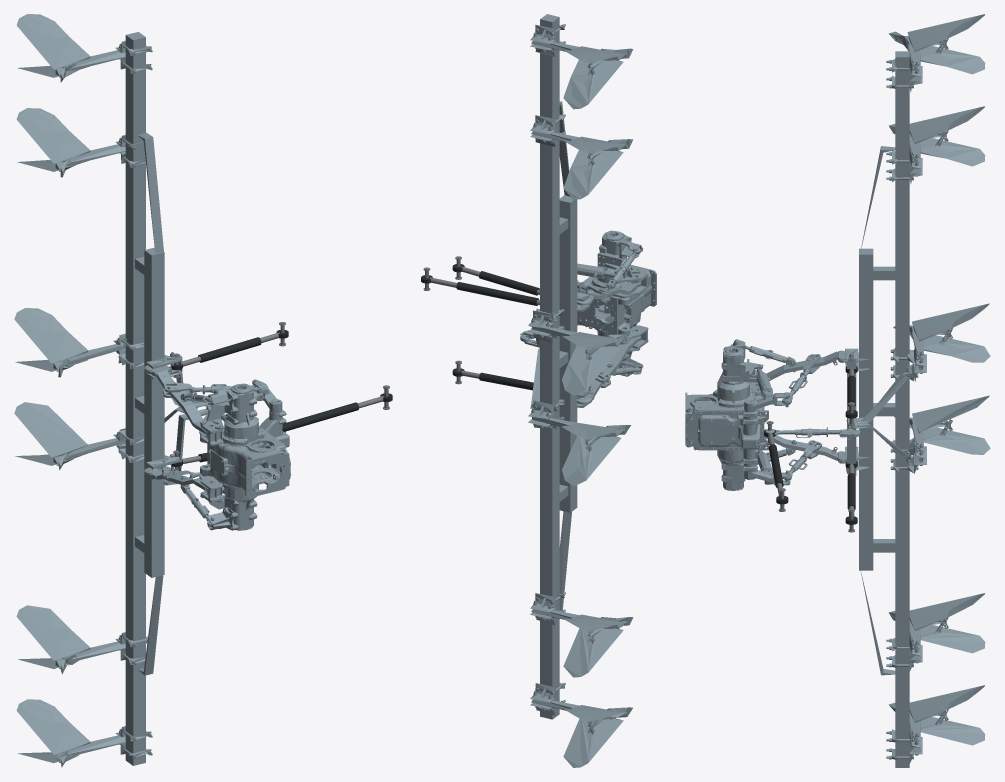
File: implement_groove_maker_visual.obj
The picture shows the model from 3 angles, left to right: view 1: azimuth 30°, elevation 25°; view 2: azimuth 150°, elevation 25°; view 3: azimuth 270°, elevation 25°; orthographic projection. The views are drawn at different scales.
Visible parts, largest first — view 1: solid_0, solid_4, solid_335, solid_358, solid_190, solid_98, solid_144, solid_297, solid_247, solid_52, solid_6, solid_5 (+3 smaller); view 2: solid_0, solid_4, solid_335, solid_189, solid_143, solid_296, solid_246, solid_97, solid_51, solid_358, solid_5, solid_342 (+13 smaller); view 3: solid_0, solid_4, solid_327, solid_358, solid_246, solid_97, solid_51, solid_190, solid_297, solid_52, solid_296, solid_144 (+10 smaller).
Part boxes in pixels (left/top/right/bottom): solid_0: left=125, top=32, right=145, bottom=765; solid_4: left=144, top=247, right=164, bottom=577; solid_335: left=200, top=431, right=289, bottom=497; solid_358: left=222, top=386, right=264, bottom=529; solid_190: left=16, top=14, right=90, bottom=69; solid_98: left=16, top=699, right=90, bottom=754; solid_144: left=16, top=108, right=90, bottom=163; solid_297: left=14, top=308, right=88, bottom=363; solid_247: left=14, top=402, right=87, bottom=457; solid_52: left=16, top=605, right=90, bottom=660; solid_6: left=138, top=132, right=163, bottom=253; solid_5: left=138, top=575, right=163, bottom=675; solid_0: left=540, top=14, right=559, bottom=719; solid_4: left=559, top=195, right=577, bottom=512; solid_335: left=577, top=264, right=656, bottom=336; solid_189: left=563, top=60, right=623, bottom=109; solid_143: left=563, top=150, right=623, bottom=199; solid_296: left=562, top=345, right=621, bottom=395; solid_246: left=562, top=436, right=621, bottom=486; solid_97: left=563, top=718, right=623, bottom=767; solid_51: left=563, top=628, right=623, bottom=677; solid_358: left=592, top=233, right=630, bottom=368; solid_5: left=559, top=511, right=571, bottom=610; solid_342: left=577, top=335, right=641, bottom=404; solid_0: left=895, top=51, right=909, bottom=767; solid_4: left=859, top=248, right=873, bottom=570; solid_327: left=685, top=409, right=768, bottom=471; solid_358: left=713, top=347, right=755, bottom=489; solid_246: left=924, top=419, right=990, bottom=454; solid_97: left=920, top=709, right=985, bottom=745; solid_51: left=920, top=617, right=985, bottom=653; solid_190: left=907, top=14, right=984, bottom=51; solid_297: left=912, top=303, right=989, bottom=341; solid_52: left=909, top=593, right=984, bottom=630; solid_296: left=924, top=328, right=990, bottom=362; solid_144: left=909, top=106, right=984, bottom=143.
Bounding box in the file's own units: 2.14 × 5.51 × 2.1.
